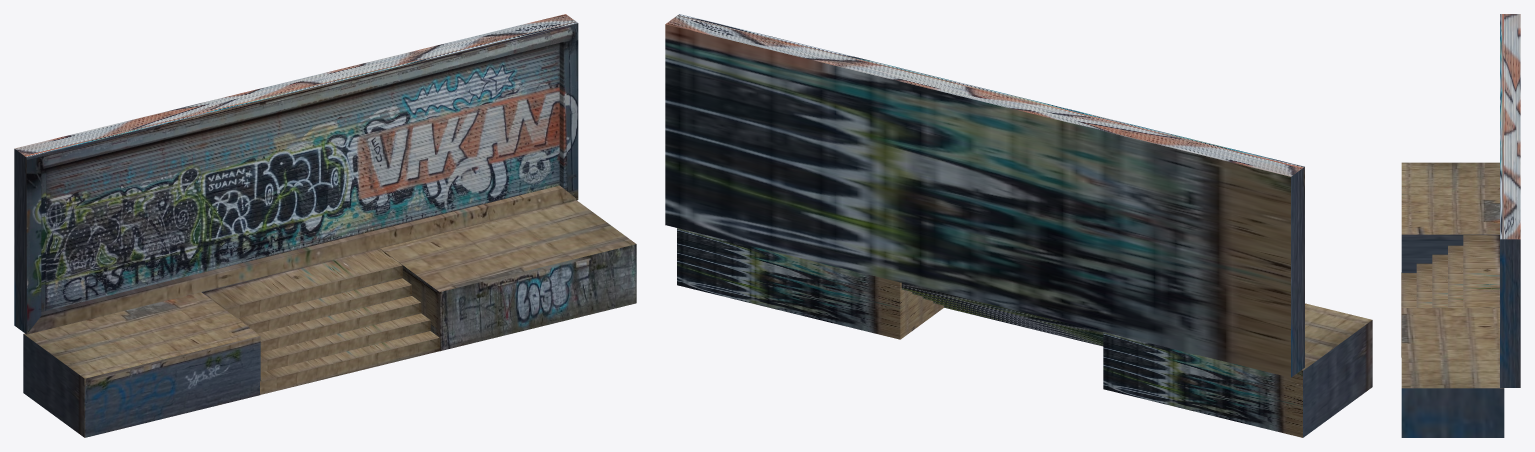
The model's file is xlbase.fbx.
The picture shows the model from 3 angles, left to right: view 1: azimuth 30°, elevation 25°; view 2: azimuth 150°, elevation 25°; view 3: azimuth 270°, elevation 25°; orthographic projection. The views are drawn at different scales.
Visible parts, largest first — view 1: Cube.002; view 2: Cube.002; view 3: Cube.002.
Part boxes in pixels (x1,y1,x2,y2): Cube.002: (14,14,636,437); Cube.002: (665,14,1372,437); Cube.002: (1401,14,1520,437).
Bounding box in the file's own units: 2753 × 1130 × 615.
